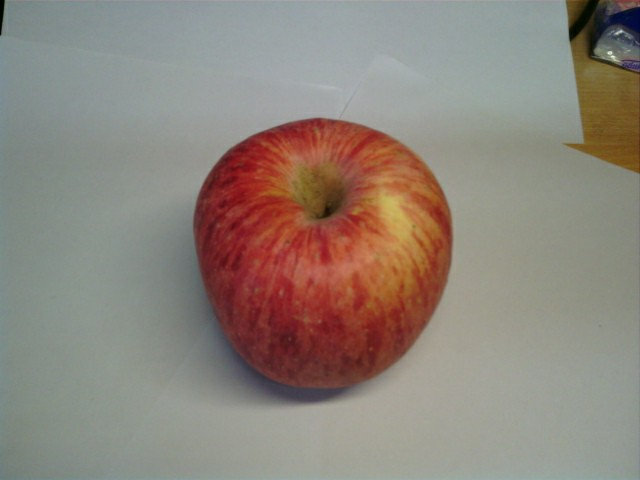normal_apple: (194, 117, 451, 393)
